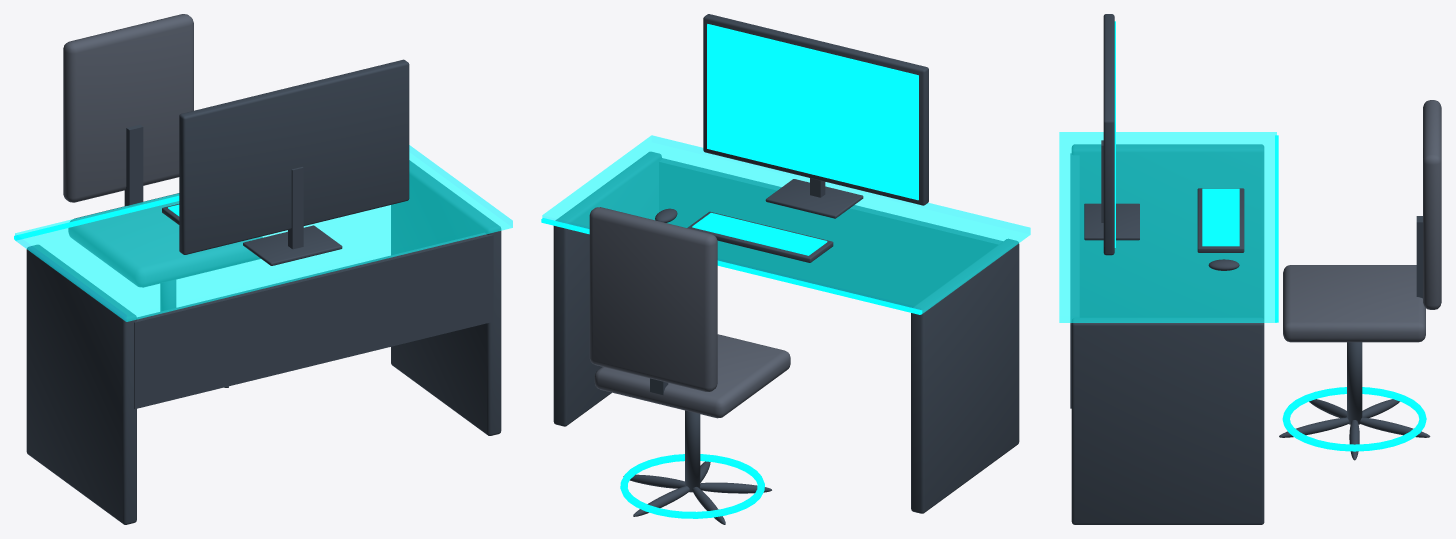
The model's file is workstation.glb.
3 views of the same model, side by side, from view 1: azimuth 30°, elevation 25°; view 2: azimuth 150°, elevation 25°; view 3: azimuth 270°, elevation 25° (orthographic). The views are drawn at different scales.
Parts seen in each view (by area): view 1: Desk, Chair; view 2: Desk, Chair, Screen; view 3: Desk, Chair, Screen.
Part boxes in pixels (x1,y1,x2,y2): Desk: [14, 59, 512, 524]; Chair: [63, 14, 262, 387]; Desk: [541, 14, 1030, 513]; Chair: [589, 207, 790, 524]; Screen: [707, 24, 918, 200]; Desk: [1059, 14, 1278, 524]; Chair: [1279, 100, 1441, 460]; Screen: [1114, 21, 1115, 247].
Bounding box in the file's own units: 1.4 × 1.31 × 1.23.
